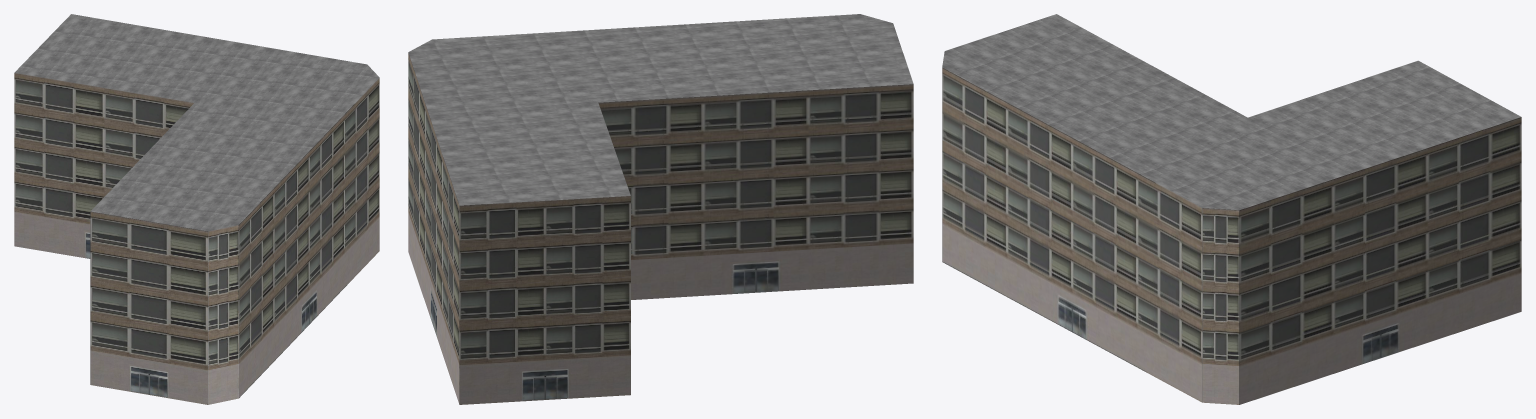
3 renders of one model, left to right at view 1: azimuth 30°, elevation 25°; view 2: azimuth 150°, elevation 25°; view 3: azimuth 270°, elevation 25°, orthographic. The views are drawn at different scales.
Visible parts, largest first — view 1: BuildingMaster_1983194066424462469300000000_0, BuildingMaster_1983194066424462469300000000_1; view 2: BuildingMaster_1983194066424462469300000000_0, BuildingMaster_1983194066424462469300000000_1; view 3: BuildingMaster_1983194066424462469300000000_0, BuildingMaster_1983194066424462469300000000_1.
Part boxes in pixels (x1,y1,x2,y2): BuildingMaster_1983194066424462469300000000_0: [14, 73, 379, 404]; BuildingMaster_1983194066424462469300000000_1: [14, 14, 379, 231]; BuildingMaster_1983194066424462469300000000_0: [408, 53, 913, 404]; BuildingMaster_1983194066424462469300000000_1: [408, 14, 913, 205]; BuildingMaster_1983194066424462469300000000_0: [942, 67, 1521, 404]; BuildingMaster_1983194066424462469300000000_1: [942, 14, 1520, 210].
Size of the model in its own units: 37.86 by 17.5 by 47.23.
Materials: 2 (2 with a texture image).
